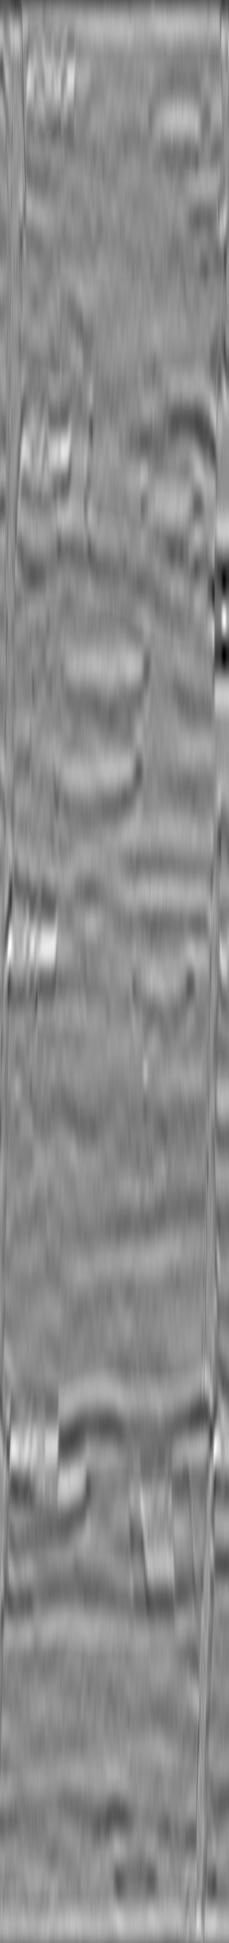hplug: (125, 944, 201, 1016), (141, 78, 219, 146), (25, 1452, 95, 1525), (135, 466, 209, 534)
scal: (45, 724, 149, 820), (53, 616, 153, 714)
vplug: (121, 1463, 201, 1610), (33, 404, 102, 558), (24, 879, 99, 1014)
